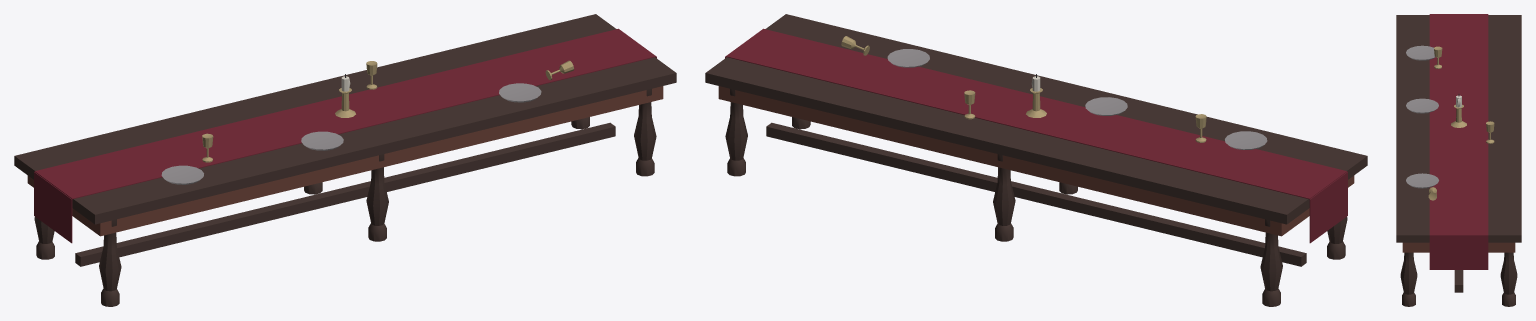
File: table_long.glb
3 renders of one model, left to right at view 1: azimuth 30°, elevation 25°; view 2: azimuth 150°, elevation 25°; view 3: azimuth 270°, elevation 25°, orthographic. The views are drawn at different scales.
Parts seen in each view (by area): view 1: TableLong; view 2: TableLong; view 3: TableLong.
Part boxes in pixels (<box>): TableLong: <box>14,14,676,306</box>; TableLong: <box>705,14,1367,306</box>; TableLong: <box>1396,14,1521,306</box>.
Bounding box in the file's own units: 5.03 × 1.15 × 1.2.
